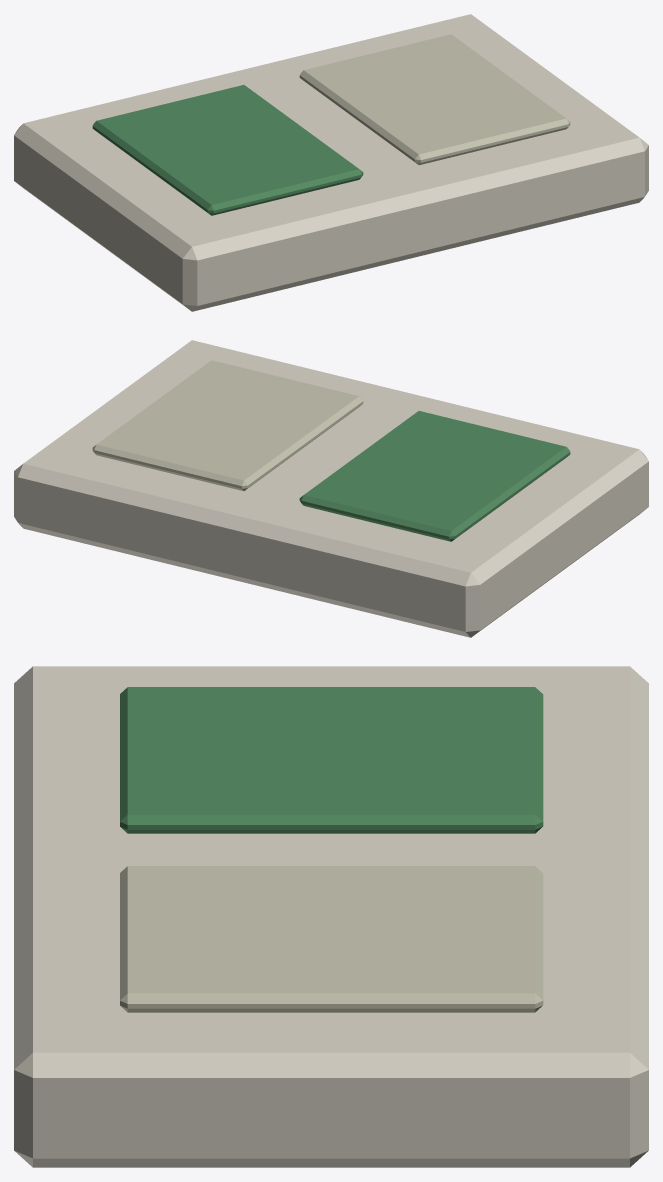
Rendered from sc-sterile-gloves.glb.
3 views of the same model, one above another, from view 1: azimuth 30°, elevation 25°; view 2: azimuth 150°, elevation 25°; view 3: azimuth 270°, elevation 25° (orthographic). The views are drawn at different scales.
Parts seen in each view (by area): view 1: sc-sterile-gloves; view 2: sc-sterile-gloves; view 3: sc-sterile-gloves.
Boxes of the visible parts, left/top/right/bottom form: sc-sterile-gloves: left=14, top=14, right=648, bottom=311; sc-sterile-gloves: left=14, top=340, right=648, bottom=637; sc-sterile-gloves: left=14, top=666, right=648, bottom=1167.
Bounding box in the file's own units: 0.18 × 0.028 × 0.12.
